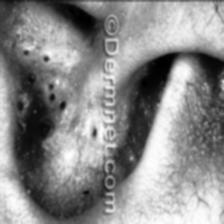Non-Cancerous Skin Condition: (124, 2, 224, 220), (0, 46, 94, 223)
